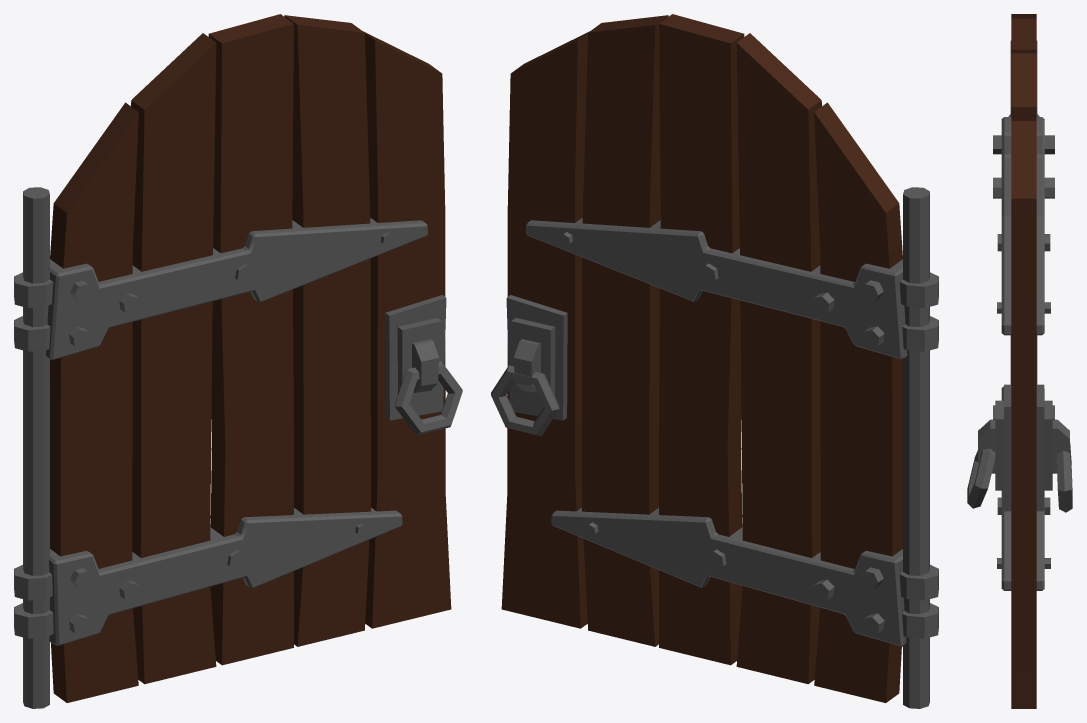
File: Door_withAnims.fbx
3 renders of one model, left to right at view 1: azimuth 30°, elevation 25°; view 2: azimuth 150°, elevation 25°; view 3: azimuth 270°, elevation 25°, orthographic. The views are drawn at different scales.
Visible parts, largest first — view 1: Door4; view 2: Door4; view 3: Door4.
Boxes of the visible parts, x1,y1,x2,y2 form: Door4: [14, 14, 462, 708]; Door4: [491, 14, 938, 708]; Door4: [967, 14, 1072, 708].
Size of the model in its own units: 1.76 by 2.45 by 0.3983.
